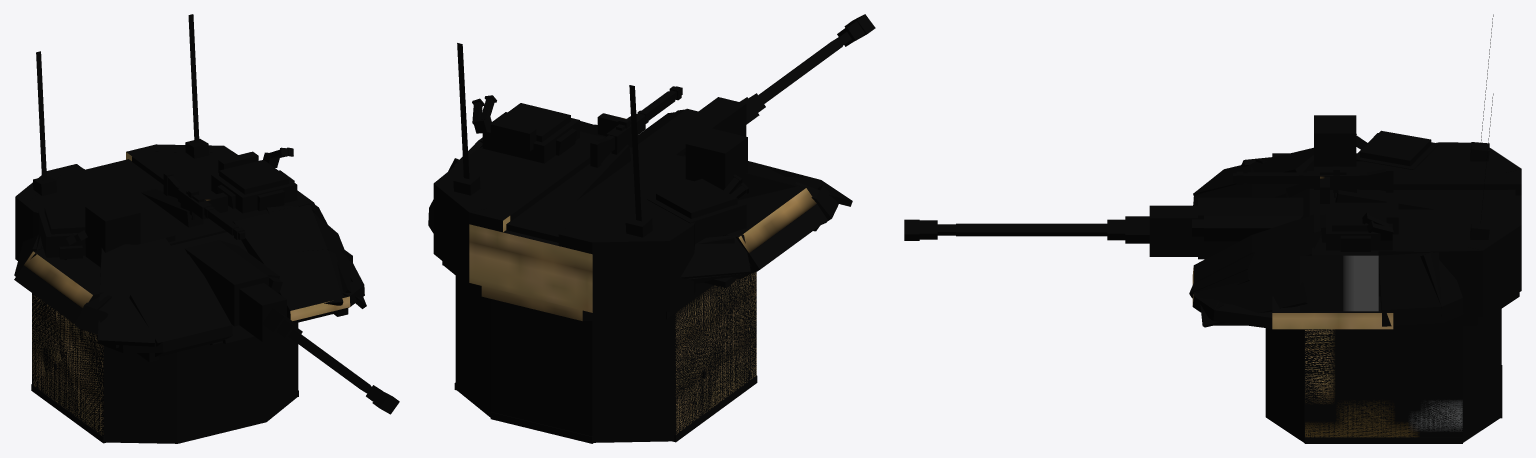
File: cv9040c_turret.obj
The picture shows the model from 3 angles, left to right: view 1: azimuth 30°, elevation 25°; view 2: azimuth 150°, elevation 25°; view 3: azimuth 270°, elevation 25°; orthographic projection. The views are drawn at different scales.
Visible parts, largest first — view 1: turret, gun; view 2: turret, gun; view 3: turret, gun.
Boxes of the visible parts, left/top/right/bottom form: turret: left=14, top=14, right=366, bottom=443; gun: left=184, top=240, right=399, bottom=414; turret: left=428, top=43, right=852, bottom=443; gun: left=629, top=14, right=875, bottom=155; turret: left=1189, top=14, right=1521, bottom=443; gun: left=904, top=197, right=1303, bottom=259.
Size of the model in its own units: 3.55 by 3.88 by 6.37.
